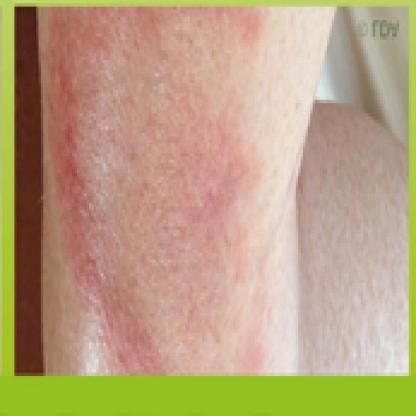Tick: (44, 13, 276, 383)
